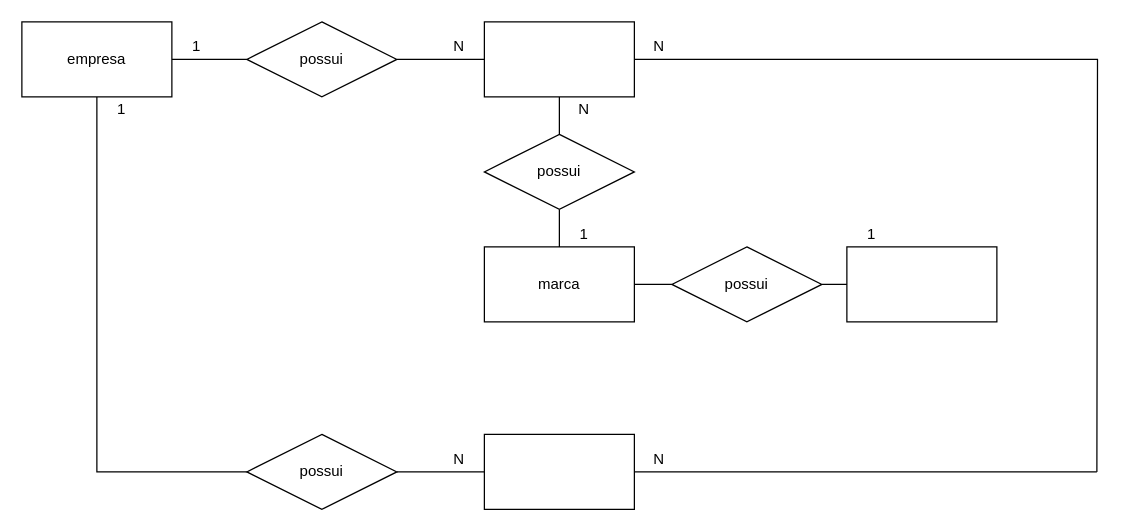
Some shapes in this 1121 by 531 pixel diagram are drawn without their labels. The shapes that lost their labels are listed below. From the top down, each one's centre as x and y in pixels, then its label:
At (x=558, y=59): "veiculo".
At (x=921, y=284): "modelo".
At (x=558, y=471): "clientes".
